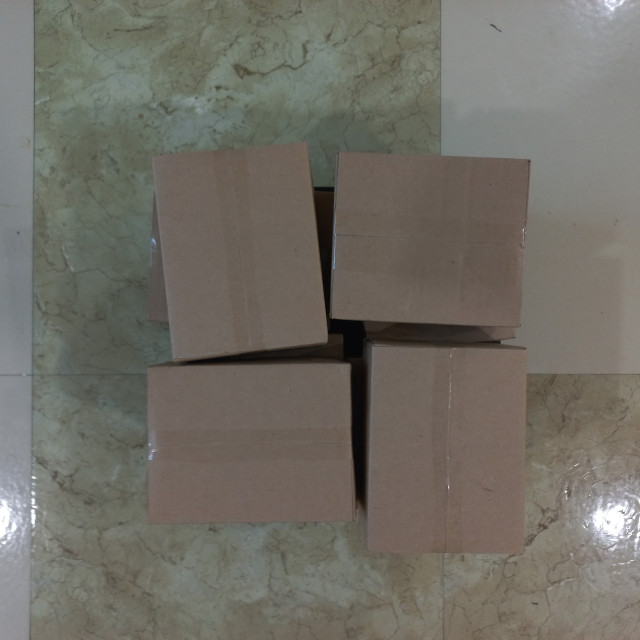box: (148, 135, 333, 366), (326, 149, 536, 334), (141, 357, 359, 529), (362, 342, 530, 562)
